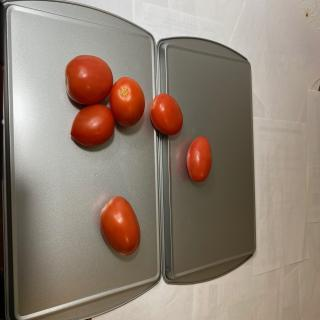Tomato: (65, 54, 113, 105), (100, 196, 140, 256), (70, 104, 114, 147), (109, 76, 145, 128), (150, 93, 183, 136), (186, 136, 212, 182)
